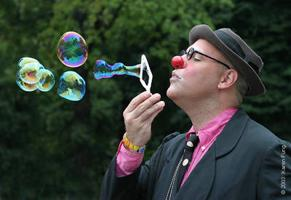person: (101, 26, 290, 200)
